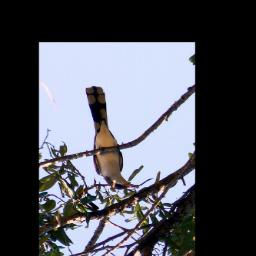Cuckoo: (83, 84, 139, 191)
